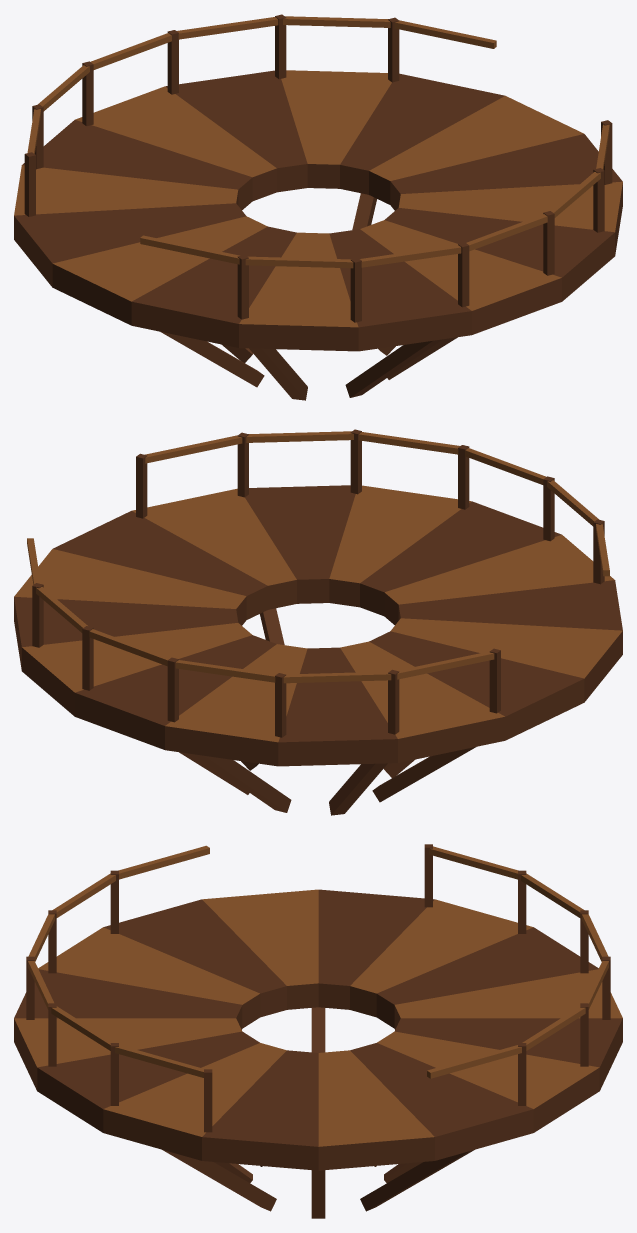
File: platform.obj
3 renders of one model, top to bottom at view 1: azimuth 30°, elevation 25°; view 2: azimuth 150°, elevation 25°; view 3: azimuth 270°, elevation 25°, orthographic.
Size of the model in its own units: 7.4 by 3.07 by 7.4.
Materials: 1 (1 with a texture image).
